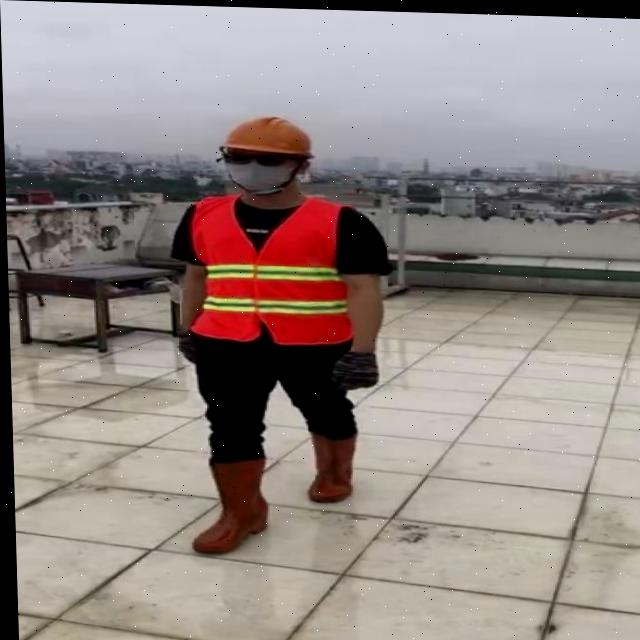Gloves: (327, 347, 378, 390), (177, 329, 197, 362)
Helmet: (219, 113, 314, 157)
Safety-Boot: (187, 453, 267, 554), (303, 426, 357, 501)
Safety-Vest: (185, 190, 353, 345)
